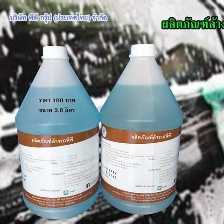cleaning_solution: (13, 43, 103, 220), (95, 43, 184, 217)
